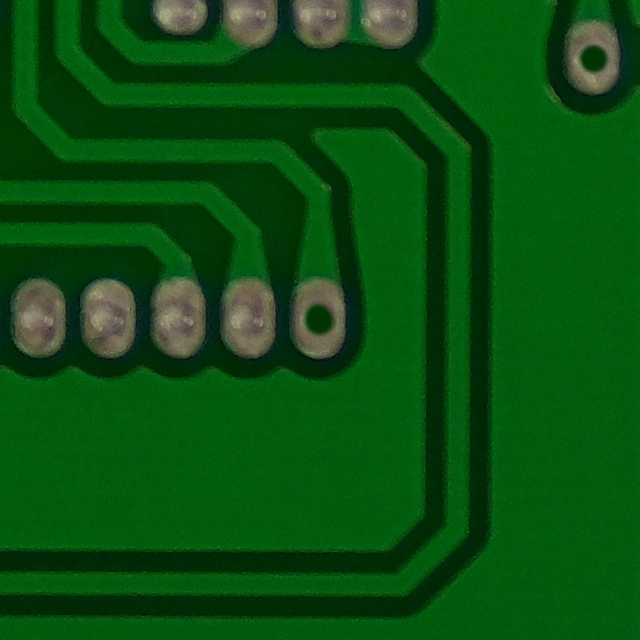missing_hole: (275, 271, 366, 369), (546, 19, 640, 97)
